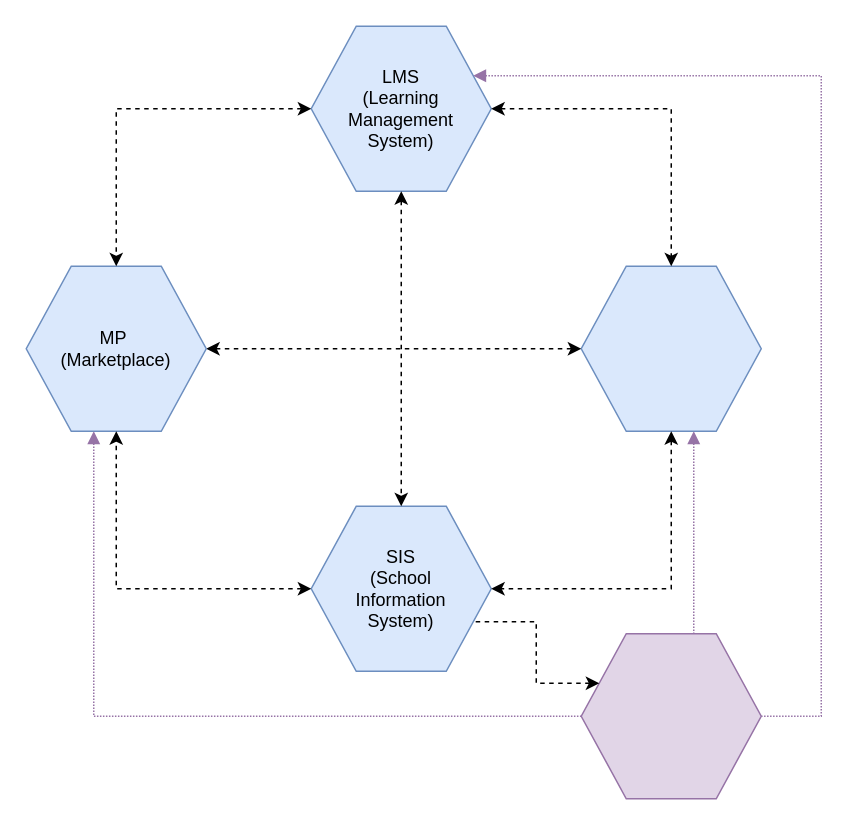
The diagram is 860 pixels wide and 825 high, and some of its shapes have lost their labels. Each missing label, with the centre of its shape:
IDP (Identity Provider): pixel 670 715
LA (Learning Application): pixel 670 348
